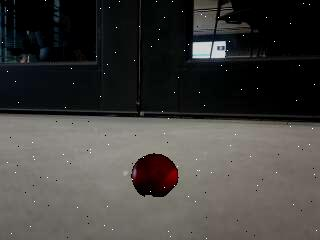Tomato: (132, 153, 180, 197)
